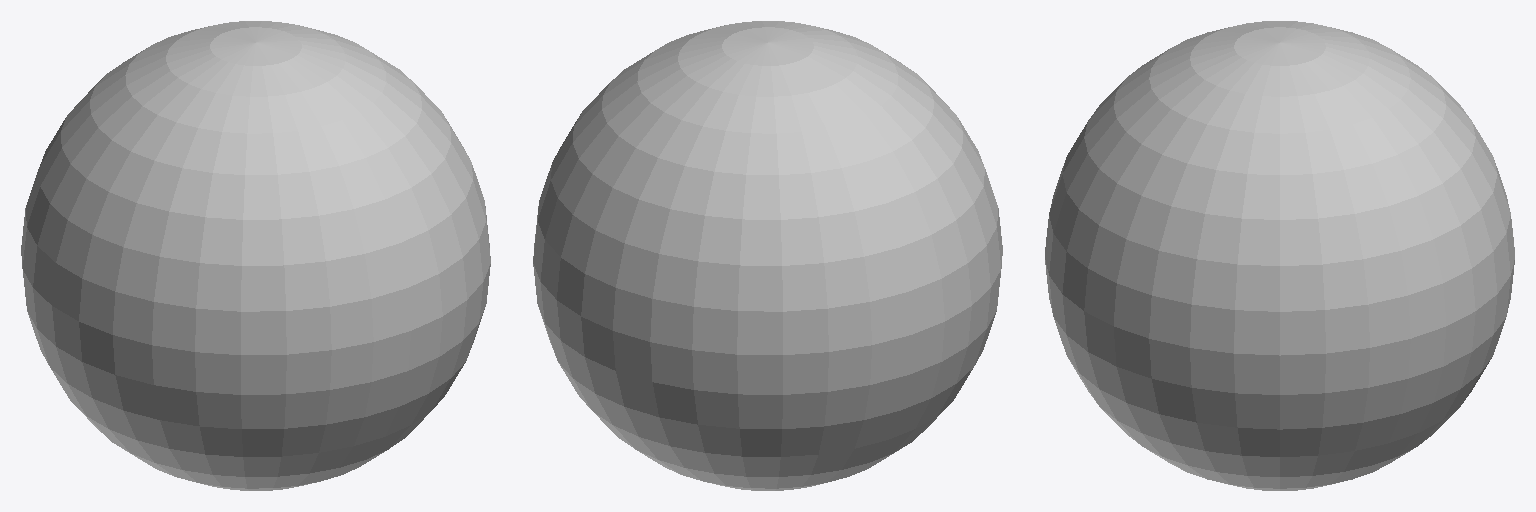
File: ball.obj
3 views of the same model, side by side, from view 1: azimuth 30°, elevation 25°; view 2: azimuth 150°, elevation 25°; view 3: azimuth 270°, elevation 25° (orthographic).
Parts seen in each view (by area): view 1: Sphere; view 2: Sphere; view 3: Sphere.
Boxes of the visible parts, box(x1,y1,x2,y2) form: Sphere: box(21, 21, 490, 490); Sphere: box(533, 21, 1002, 490); Sphere: box(1045, 21, 1514, 490).
Bounding box in the file's own units: 0.3292 × 0.3292 × 0.3292.